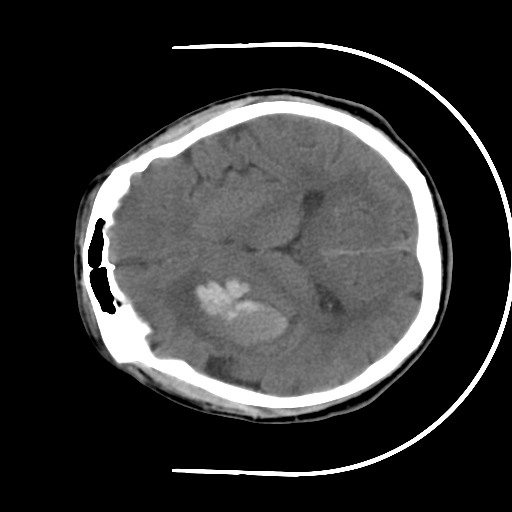a: (158, 259, 301, 362)
